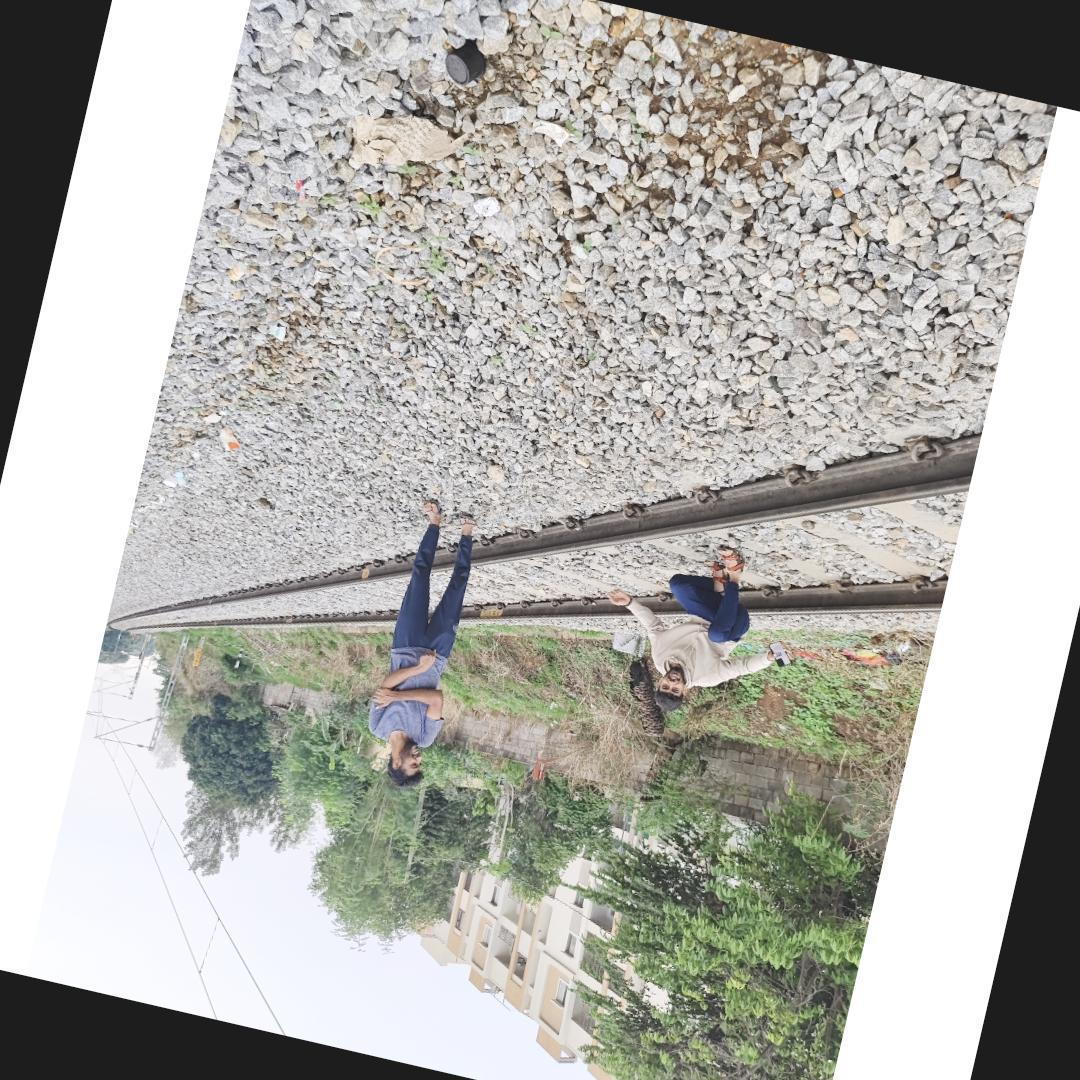sitting: (586, 521, 803, 733)
standing: (349, 496, 492, 794)
track: (107, 377, 991, 646)
